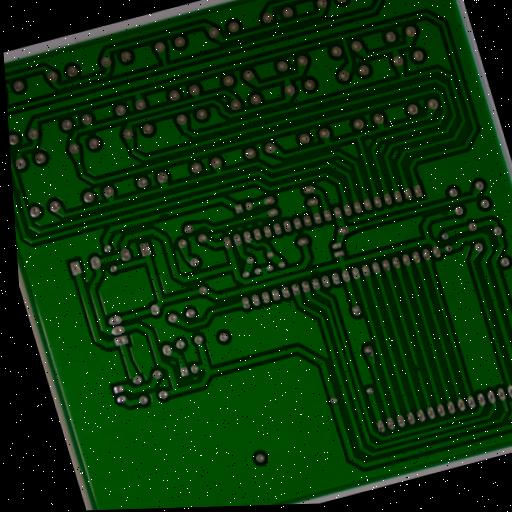mouse_bite: (154, 208, 173, 222), (307, 265, 324, 279), (436, 208, 453, 222), (12, 182, 25, 200), (411, 360, 424, 377)
